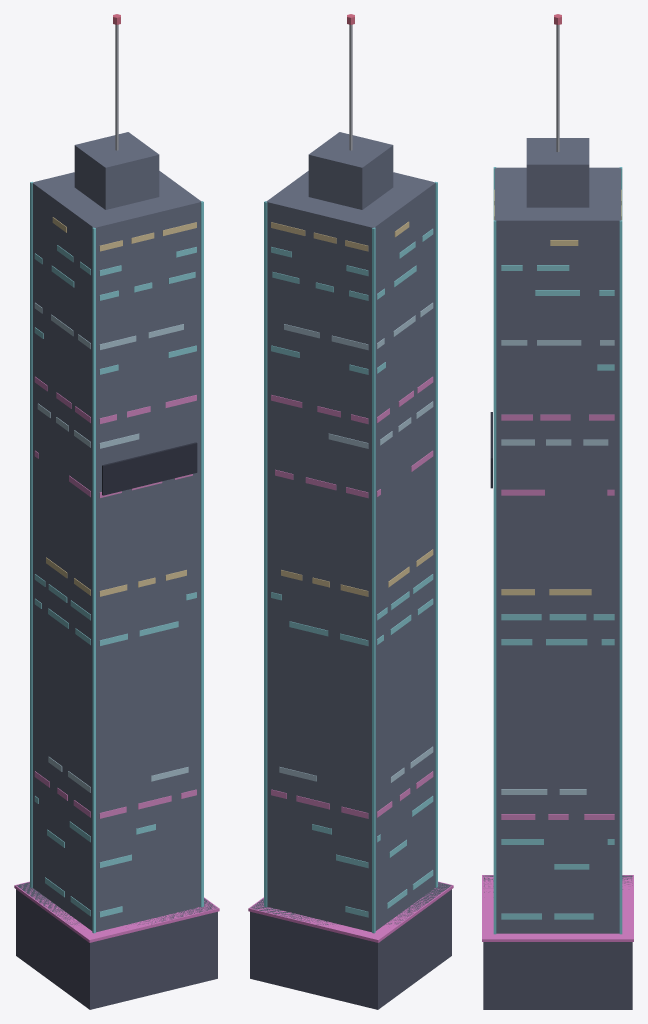
Rendered from c_turm_a.glb.
3 views of the same model, side by side, from view 1: azimuth 30°, elevation 25°; view 2: azimuth 150°, elevation 25°; view 3: azimuth 270°, elevation 25° (orthographic).
Parts seen in each view (by area): view 1: koerper, leuchten; view 2: koerper, leuchten; view 3: koerper, leuchten.
Part boxes in pixels (x1,y1,x2,y2): koerper: (16, 24, 217, 1009); leuchten: (14, 14, 219, 942); koerper: (250, 24, 451, 1009); leuchten: (248, 14, 453, 942); koerper: (483, 25, 632, 1009); leuchten: (482, 14, 633, 941).
Bounding box in the file's own units: 19.3 × 135 × 19.3.
